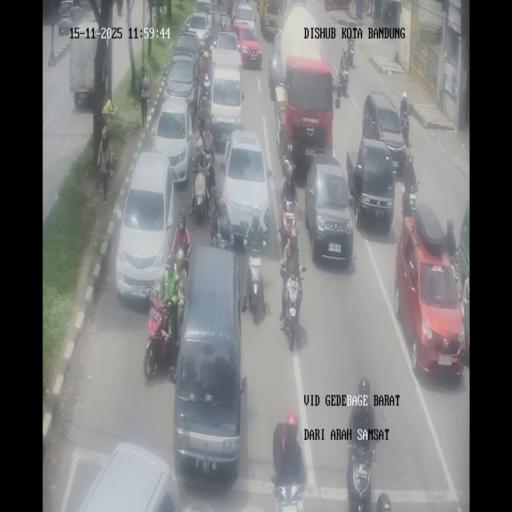3: (279, 55, 336, 170), (69, 26, 101, 110), (458, 198, 470, 362), (258, 0, 286, 39), (280, 0, 306, 20)
car: (173, 247, 244, 478), (394, 206, 464, 378), (115, 150, 174, 302), (63, 442, 178, 510), (220, 129, 270, 246), (304, 154, 354, 266), (348, 138, 396, 232), (208, 66, 246, 148), (164, 53, 200, 121), (268, 31, 286, 99), (213, 29, 241, 67), (185, 10, 211, 44), (232, 2, 256, 35), (58, 0, 74, 21)
truck: (143, 284, 179, 380), (345, 432, 377, 511), (241, 240, 269, 324), (279, 266, 306, 353), (278, 196, 299, 257), (273, 478, 305, 511), (191, 169, 209, 224), (209, 213, 232, 251), (446, 236, 461, 293), (174, 274, 187, 338), (402, 178, 420, 216), (198, 73, 212, 113), (336, 59, 350, 98), (197, 41, 212, 76), (177, 245, 191, 280), (399, 109, 410, 147), (346, 39, 354, 68), (198, 112, 207, 136), (220, 10, 226, 31), (220, 0, 226, 11)
